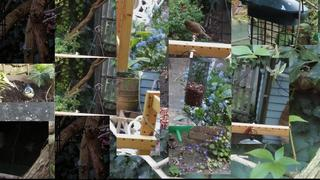blue tit: (22, 84, 34, 102)
robin: (183, 20, 211, 39)
